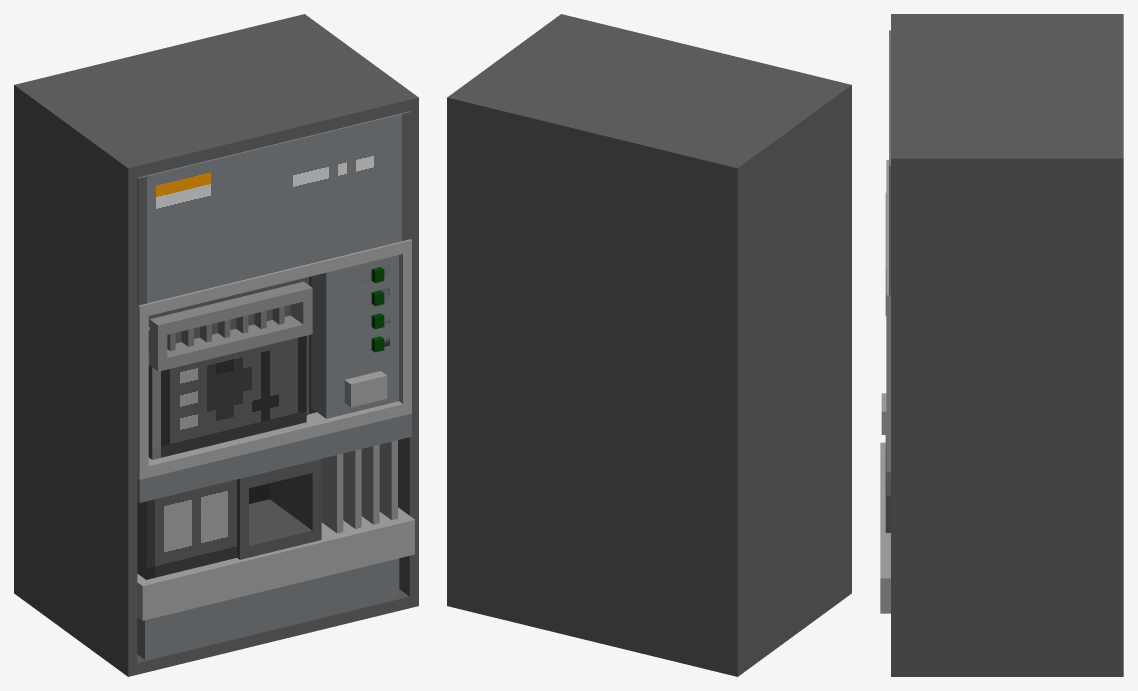
File: CMU3DRMCVendorNutriCoDrinkInheritedMiscCloud.glb
3 views of the same model, side by side, from view 1: azimuth 30°, elevation 25°; view 2: azimuth 150°, elevation 25°; view 3: azimuth 270°, elevation 25° (orthographic).
Visible parts, largest first — view 1: full-depth left casing, tall steel header source detail, roof, lower selection pictogram bank source detail, wide drip shelf, right selector column, lower fascia, left closed outlet plate source detail, full-depth right casing, bank separator, upper dispensing bank rim bottom, base (+19 smaller); view 2: rear cabinet wall, full-depth left casing, roof, full-depth right casing; view 3: full-depth right casing, roof, rear cabinet wall, wide drip shelf, full-depth left casing, upper dispensing bank rim right, tall steel header, upper dispensing bank rim top.
Part boxes in pixels (bbox=[...]): full-depth left casing: bbox=[14, 83, 137, 676]; tall steel header source detail: bbox=[138, 112, 410, 305]; roof: bbox=[29, 19, 409, 177]; lower selection pictogram bank source detail: bbox=[152, 335, 306, 459]; wide drip shelf: bbox=[137, 507, 414, 620]; right selector column: bbox=[311, 255, 398, 418]; lower fascia: bbox=[137, 558, 399, 659]; left closed outlet plate source detail: bbox=[146, 479, 236, 579]; full-depth right casing: bbox=[296, 14, 418, 607]; bank separator: bbox=[137, 413, 411, 502]; upper dispensing bank rim bottom: bbox=[137, 401, 411, 479]; base: bbox=[137, 589, 409, 674]; rear cabinet wall: bbox=[456, 95, 733, 674]; full-depth left casing: bbox=[728, 83, 851, 676]; roof: bbox=[461, 16, 842, 162]; full-depth right casing: bbox=[447, 14, 569, 607]; full-depth right casing: bbox=[891, 154, 1123, 676]; roof: bbox=[891, 18, 1115, 153]; rear cabinet wall: bbox=[1111, 18, 1123, 153]; wide drip shelf: bbox=[880, 442, 890, 613]; full-depth left casing: bbox=[891, 14, 1123, 18]; upper dispensing bank rim right: bbox=[886, 307, 890, 460]; tall steel header: bbox=[889, 30, 890, 295]; upper dispensing bank rim top: bbox=[886, 160, 890, 307].
Size of the model in its own units: 1 by 1.67 by 0.712.
14 materials, 3 textured.
